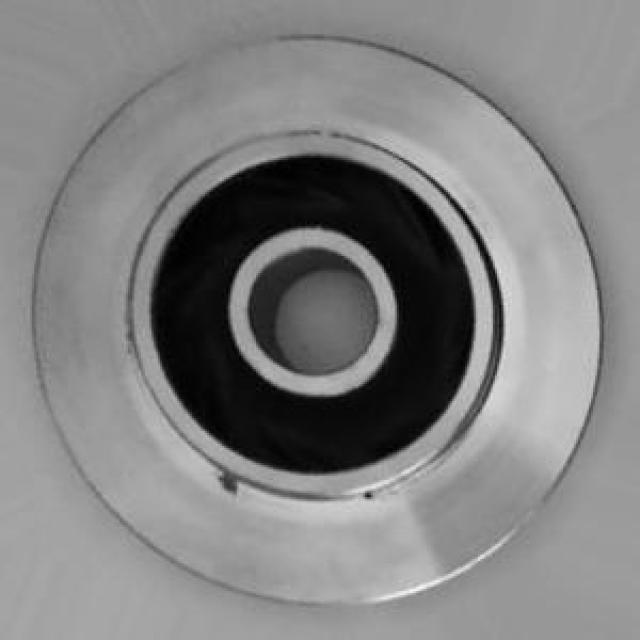Defect: (217, 461, 245, 498)
